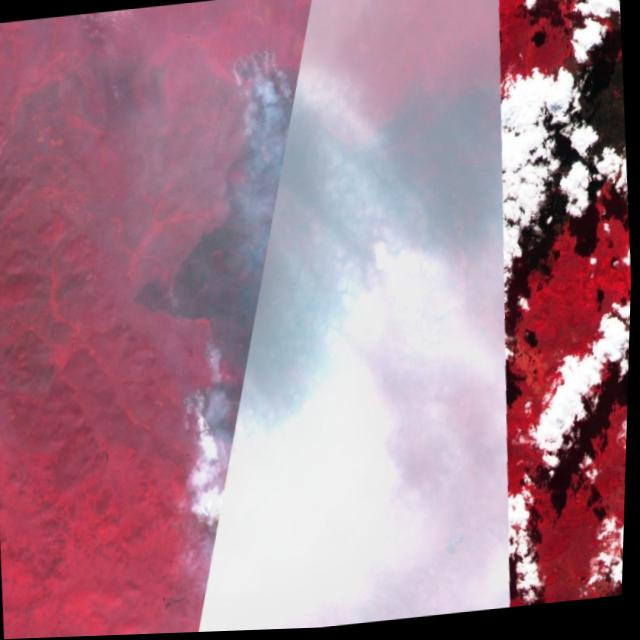fire: (168, 341, 327, 540), (223, 35, 320, 140), (357, 224, 406, 278)
